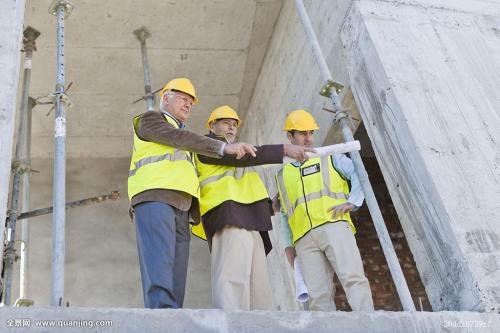helmet: (280, 105, 321, 154), (159, 73, 200, 122), (205, 103, 244, 143)
